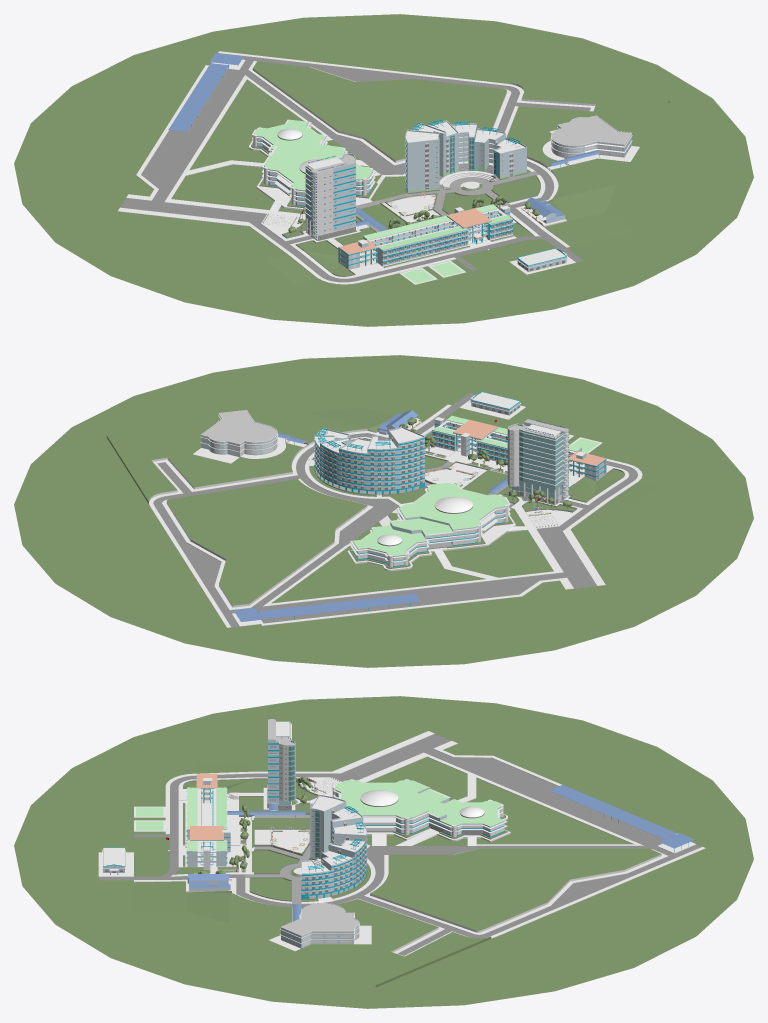
The model's file is map.glb.
The picture shows the model from 3 angles, top to bottom: view 1: azimuth 30°, elevation 25°; view 2: azimuth 150°, elevation 25°; view 3: azimuth 270°, elevation 25°; orthographic projection.
Visible parts, largest first — view 1: map; view 2: map; view 3: map.
Part boxes in pixels (x1=…): map: x1=14, y1=14, x2=753, y2=326; map: x1=14, y1=355, x2=753, y2=667; map: x1=14, y1=696, x2=753, y2=1008.
Bounding box in the file's own units: 16.84 × 1.82 × 16.84.
